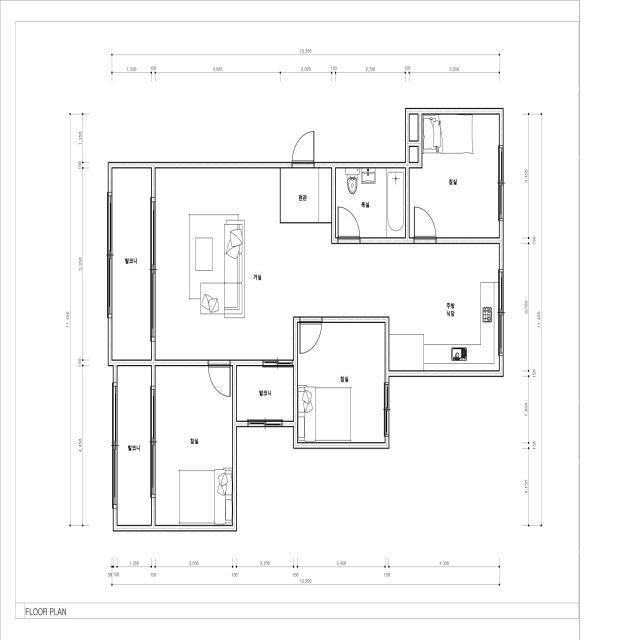space_balconi: (112, 168, 151, 360), (117, 366, 151, 525), (237, 366, 293, 421)
space_bedroom: (155, 366, 232, 525), (409, 114, 499, 237), (297, 323, 385, 443)
space_front: (280, 168, 331, 223)
space_kitchen: (389, 244, 499, 371)
space_living_room: (155, 168, 389, 360)
space_other: (409, 114, 418, 141), (409, 147, 418, 162)
space_toilet: (336, 168, 405, 238)
